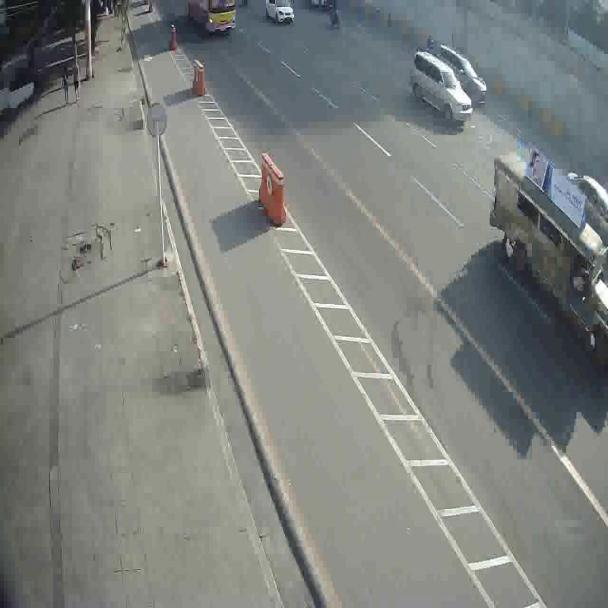vehicle: (490, 146, 608, 370), (408, 51, 476, 132), (430, 37, 490, 115), (186, 1, 241, 39), (265, 1, 295, 25)
